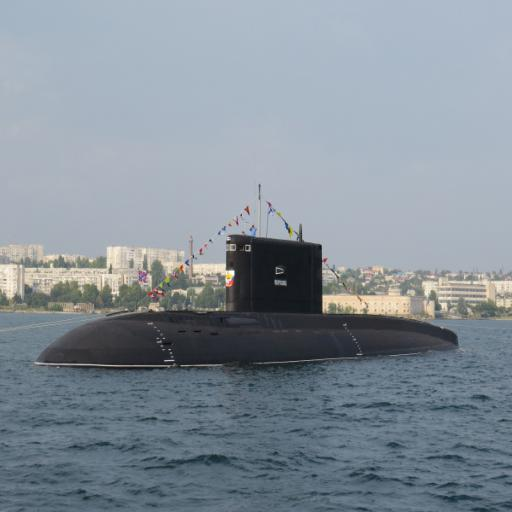submarine: (35, 238, 461, 364)
